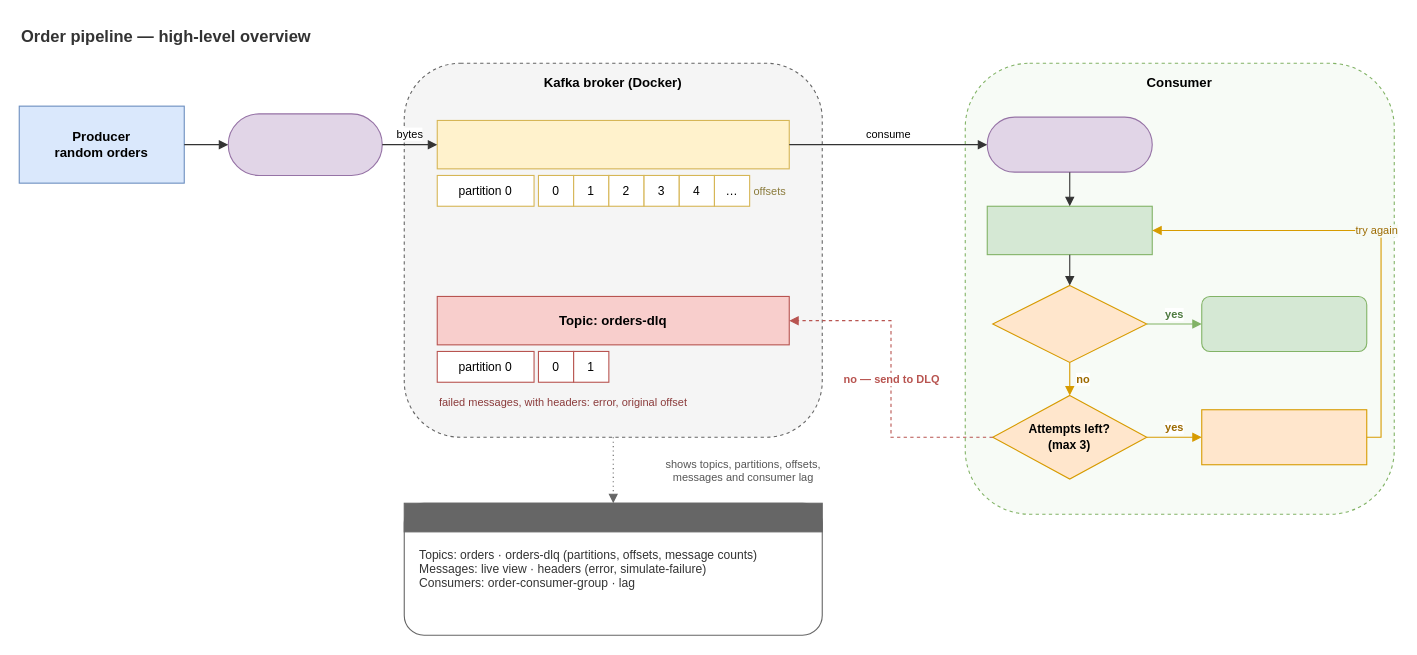
Image size: 1417x655. Some labels were removed from this diagram. The box of each missing label's shape, as (x1, y1, x2, y2) in pixels:
Avro decode order.avsc: (986, 116, 1152, 172)
Avro encode order.avsc: (227, 113, 382, 175)
Kafka UI http://localhost:8080: (403, 502, 822, 532)
Process order: (986, 205, 1152, 255)
Success?: (992, 284, 1147, 362)
Topic: orders: (436, 119, 789, 169)
Update running average $ 248.10 (n=8): (1201, 295, 1367, 351)
Wait, then retry: (1201, 409, 1367, 465)
